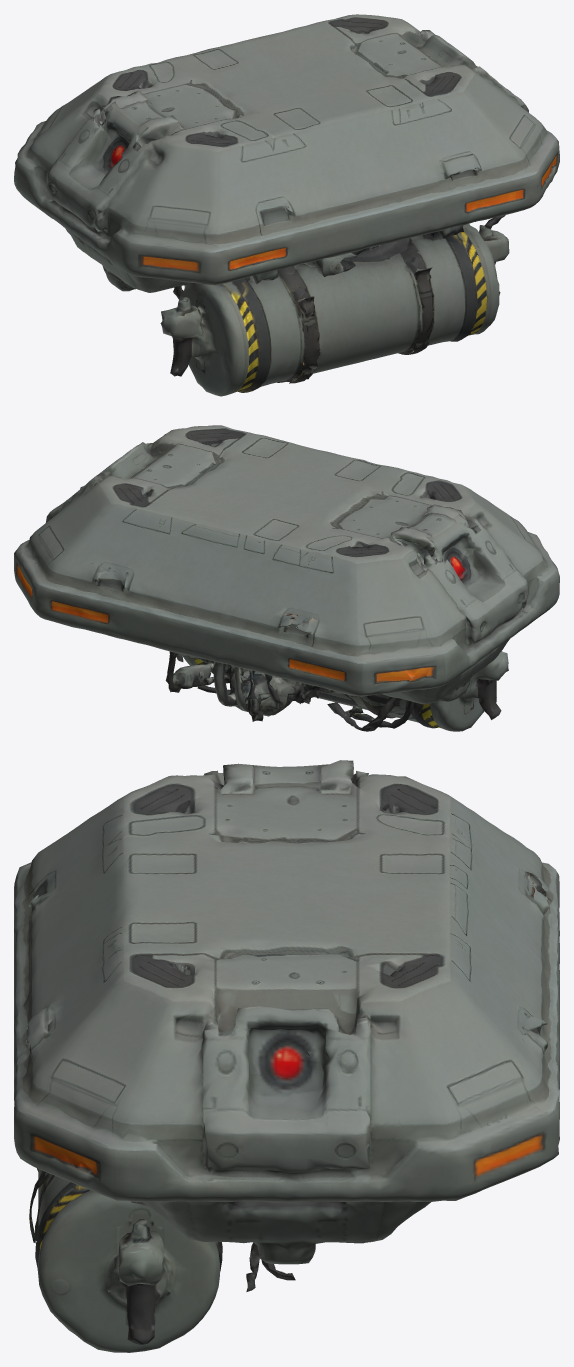
The model's file is SuicideDrone.glb.
3 views of the same model, one above another, from view 1: azimuth 30°, elevation 25°; view 2: azimuth 150°, elevation 25°; view 3: azimuth 270°, elevation 25° (orthographic). The views are drawn at different scales.
Parts seen in each view (by area): view 1: texture_mapping; view 2: texture_mapping; view 3: texture_mapping.
Part boxes in pixels (x1,y1,x2,y2): texture_mapping: [14, 14, 559, 396]; texture_mapping: [14, 425, 559, 731]; texture_mapping: [14, 760, 559, 1352].
Bounding box in the file's own units: 0.9853 × 0.5465 × 0.7017.
Materials: 1 (1 with a texture image).
